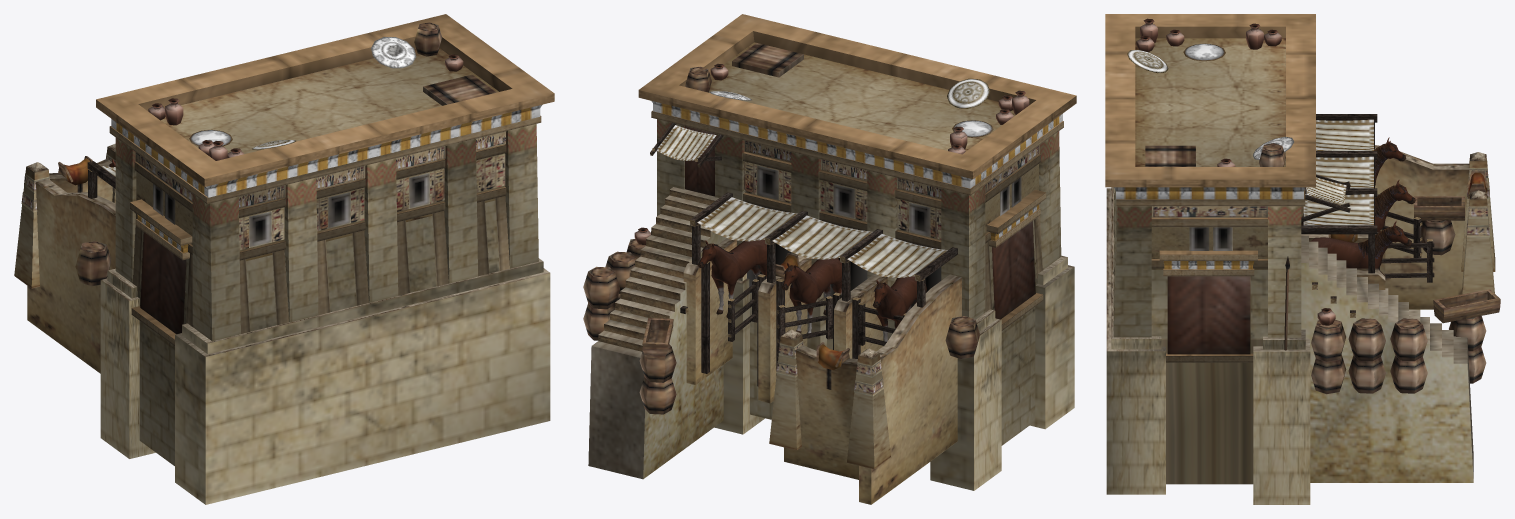
The model's file is s_ptolemies_stable.glb.
The picture shows the model from 3 angles, left to right: view 1: azimuth 30°, elevation 25°; view 2: azimuth 150°, elevation 25°; view 3: azimuth 270°, elevation 25°; orthographic projection. The views are drawn at different scales.
Parts seen in each view (by area): view 1: s_ptolemies_stable_part0; view 2: s_ptolemies_stable_part0, s_ptolemies_stable_part1; view 3: s_ptolemies_stable_part0, s_ptolemies_stable_part1, s_ptolemies_stable_part2.
Boxes of the visible parts, x1,y1,x2,y2 form: s_ptolemies_stable_part0: (14, 14, 554, 504); s_ptolemies_stable_part0: (583, 14, 1076, 504); s_ptolemies_stable_part1: (697, 239, 926, 341); s_ptolemies_stable_part0: (1105, 14, 1500, 504); s_ptolemies_stable_part1: (1309, 137, 1415, 268); s_ptolemies_stable_part2: (1301, 142, 1406, 258).
Size of the model in its own units: 4.2 by 3.8 by 4.01.
Materials: 3 (3 with a texture image).
